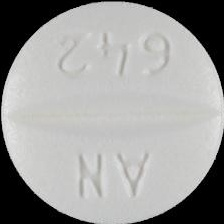42291-294: (0, 0, 224, 224)
